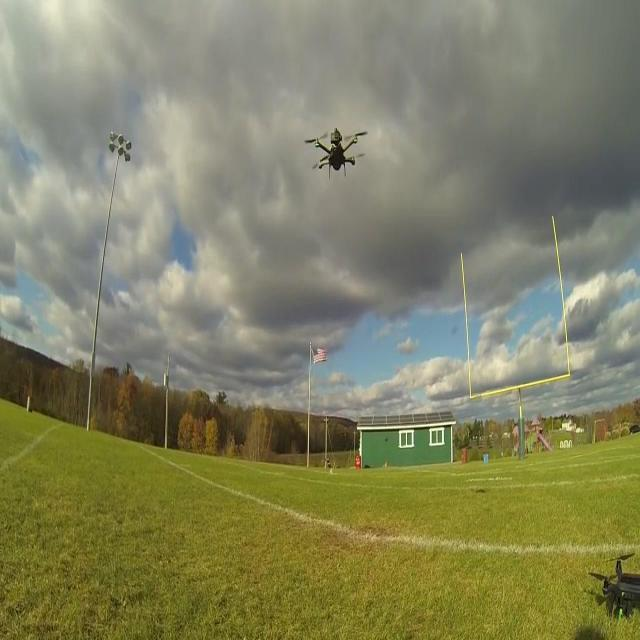UAV: (587, 553, 640, 618), (304, 128, 368, 180)
